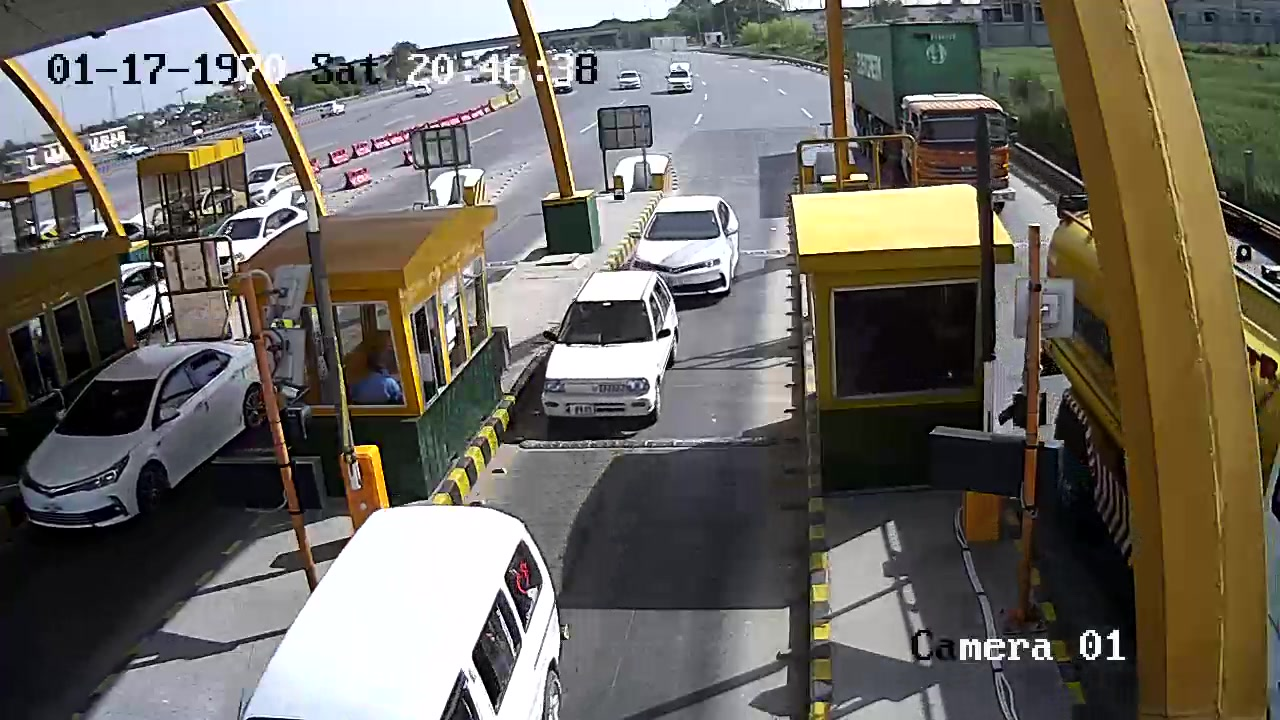F1: (542, 269, 678, 429)
